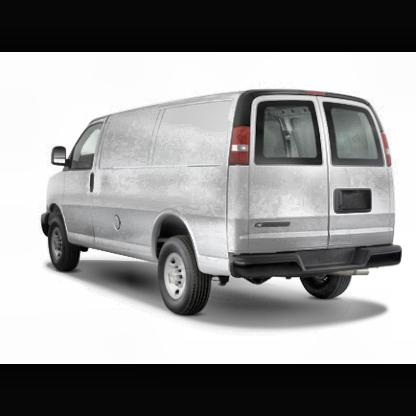Chevrolet Express Van 2007: (44, 91, 403, 320)
